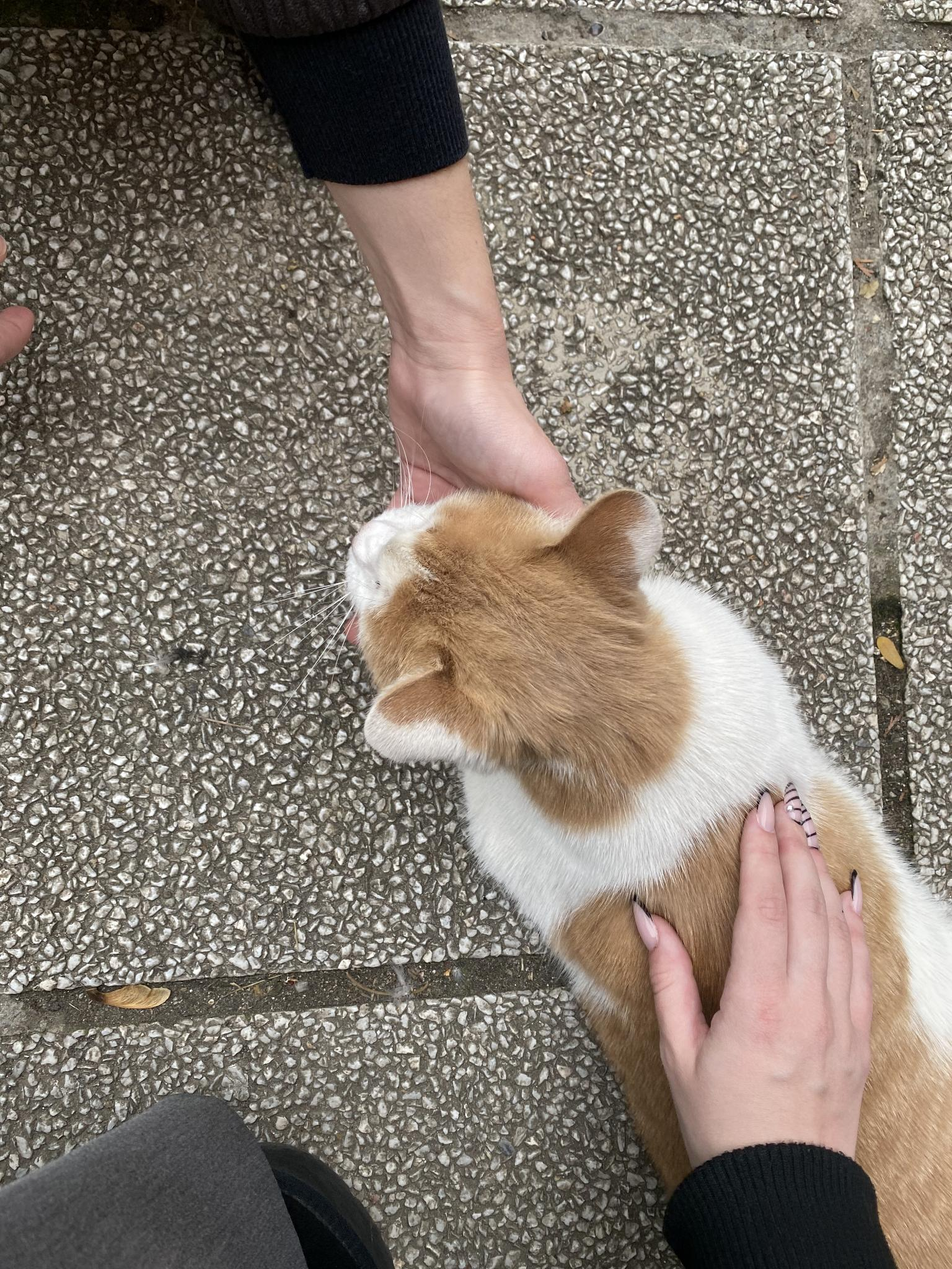macka: (340, 482, 952, 1269)
